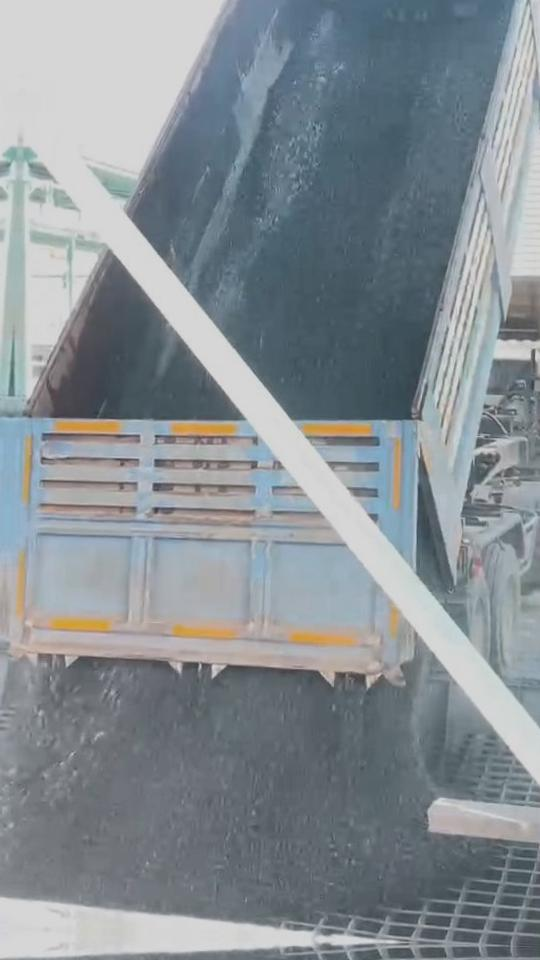gravel: (188, 0, 520, 421), (0, 662, 467, 921), (143, 335, 232, 418)
